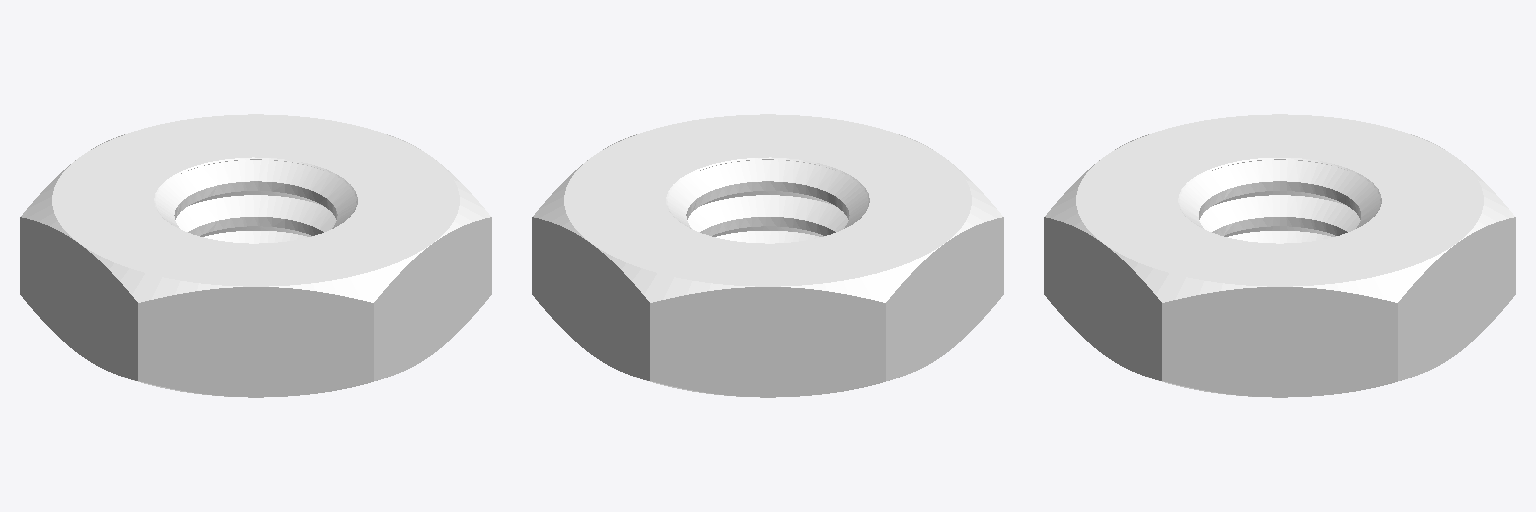
The robot description file, URDF, robot "m2nut.urdf":
<?xml version="1.0" ?>
<robot name="m2nut.urdf">
  <link name="baseLink">
    <contact>
    	<friction_anchor/>
    	   <lateral_friction value="0.5"/>
        <rolling_friction value="0.005"/>
        <spinning_friction value="0.005"/>
    </contact>
    <inertial>
      <origin rpy="0 0 0" xyz="0 0 -6E-4"/>
       <mass value="1E-3"/>
       <inertia ixx="1.9e-8" ixy="0" ixz="0" iyy="1.9E-8" iyz="0" izz="3.5E-8"/>
    </inertial>
    <visual>
      <origin rpy="0 0 0" xyz="0 0 0"/>
      <geometry>
				<mesh filename="m2_nut.obj" scale=".01 .01 .01"/>
      </geometry>
       <material name="white">
        <color rgba="1 1 1 1"/>
      </material>
    </visual>
    <collision>
      <origin rpy="0 0 0" xyz="0 0 0"/>
      <geometry>
	 <mesh filename="m2_nut.obj" scale=".01 .01 .01"/>
      </geometry>
    </collision>
  </link>
</robot>

--- Facts derived from the render (not from the file) ---
Views: 3 orthographic renders of the robot side by side, from view 1: azimuth 30°, elevation 25°; view 2: azimuth 150°, elevation 25°; view 3: azimuth 270°, elevation 25°.
Model m2nut.urdf with 1 links and 0 joints (none), rooted at baseLink, posed all joints at 0.
Links seen in each view (by area): view 1: baseLink; view 2: baseLink; view 3: baseLink.
Boxes of the visible links, x1=… form: baseLink: x1=20, y1=114, x2=491, y2=397; baseLink: x1=532, y1=114, x2=1003, y2=397; baseLink: x1=1044, y1=114, x2=1515, y2=397.
Bounding box of the posed robot: 0.04 × 0.0462 × 0.012 m (x, y, z).
1 mesh visuals loaded from 1 distinct referenced files (1 OBJ).